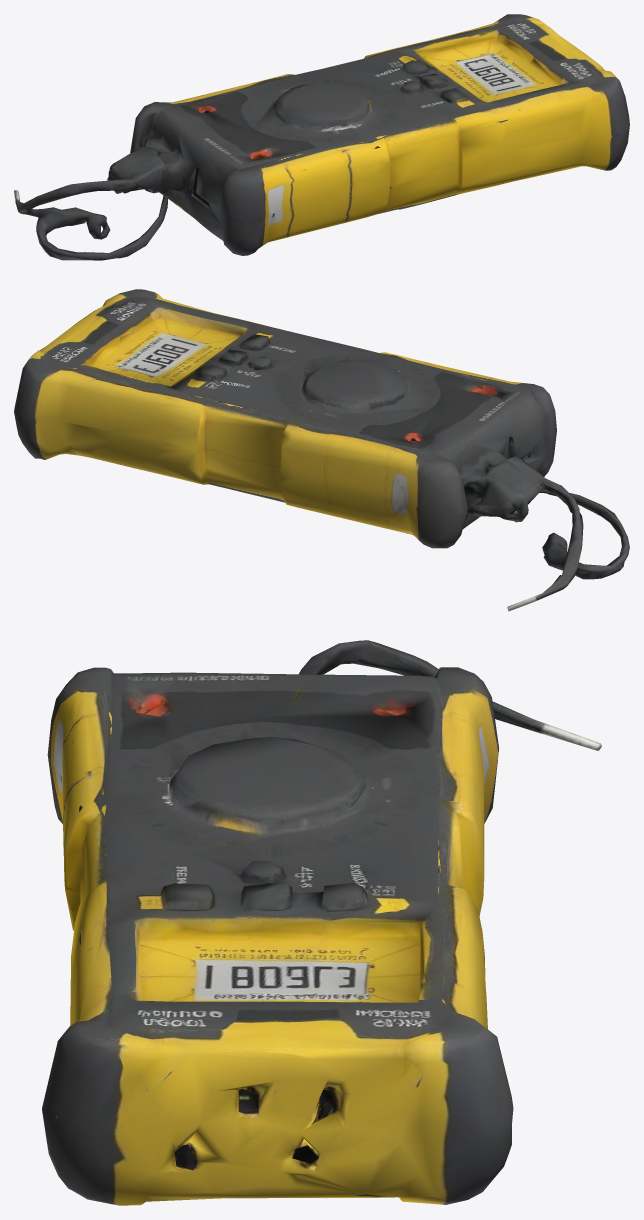
3 renders of one model, top to bottom at view 1: azimuth 30°, elevation 25°; view 2: azimuth 150°, elevation 25°; view 3: azimuth 270°, elevation 25°, orthographic. The views are drawn at different scales.
Size of the model in its own units: 2 by 0.3805 by 0.9273.
1 material, 1 textured.
